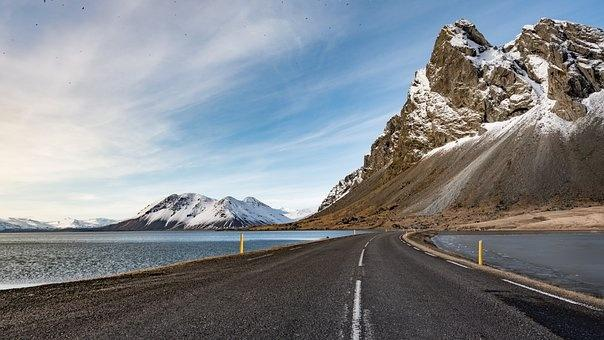field: (0, 231, 238, 287)
road: (0, 232, 603, 338)
